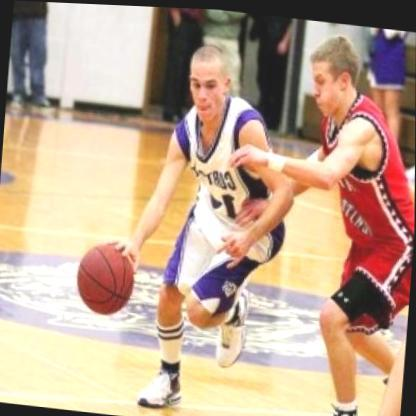basketball: (71, 234, 144, 321)
